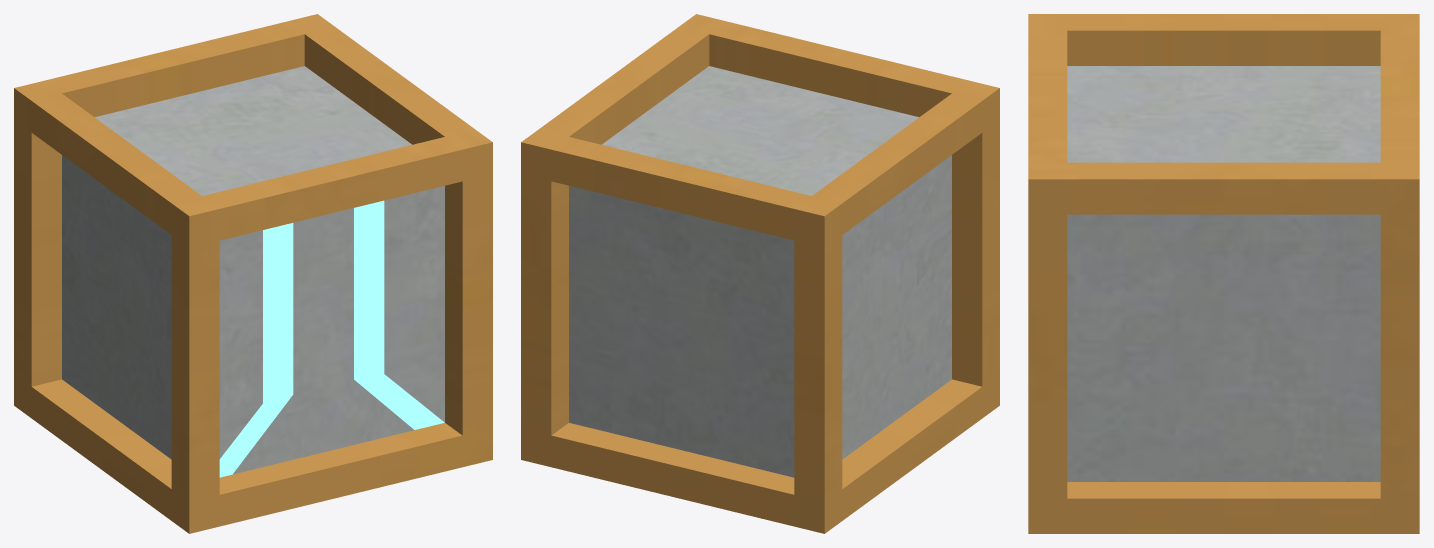
3 views of the same model, side by side, from view 1: azimuth 30°, elevation 25°; view 2: azimuth 150°, elevation 25°; view 3: azimuth 270°, elevation 25° (orthographic). The views are drawn at different scales.
Visible parts, largest first — view 1: Cube; view 2: Cube; view 3: Cube.
Boxes of the visible parts, left/top/right/bottom form: Cube: left=14, top=14, right=492, bottom=533; Cube: left=521, top=14, right=999, bottom=533; Cube: left=1028, top=14, right=1419, bottom=533.
Bounding box in the file's own units: 2 × 2 × 2.
Materials: 4 (3 with a texture image).
